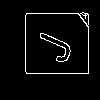J: (25, 25, 75, 66)
